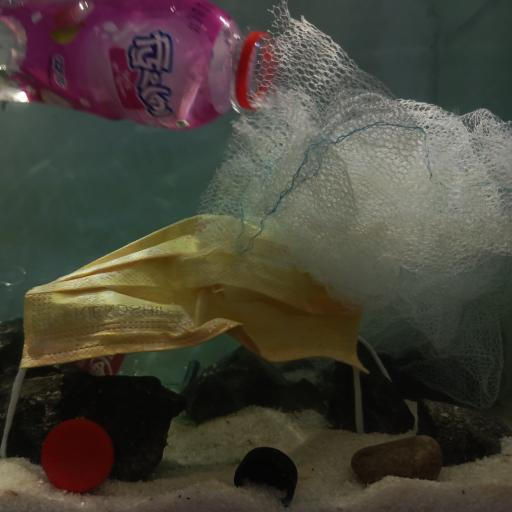bottle_cap: (41, 420, 116, 492), (233, 447, 298, 507)
mask: (21, 212, 381, 390)
net: (187, 6, 512, 411)
plastic_bottle: (0, 0, 285, 131), (1, 256, 209, 390)
